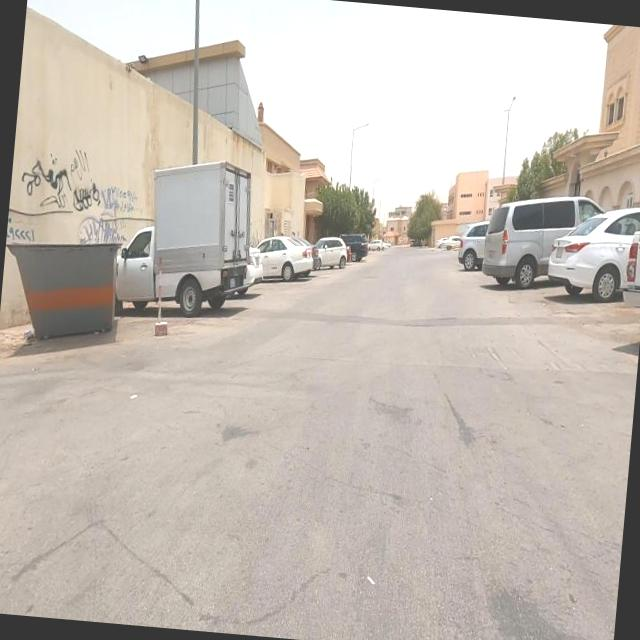debris: (4, 84, 152, 276), (61, 164, 166, 246), (56, 189, 146, 280), (4, 190, 61, 272)
